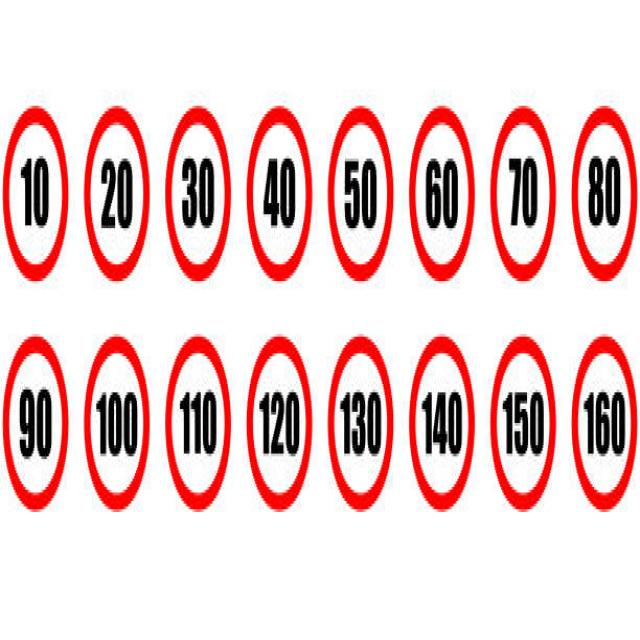speed_limit_100: (82, 325, 150, 515)
speed_limit_120: (244, 332, 312, 512)
speed_limit_20: (82, 97, 152, 287)
speed_limit_30: (163, 95, 233, 286)
speed_limit_50: (324, 95, 396, 294)
speed_limit_60: (407, 102, 478, 292)
speed_limit_70: (485, 102, 557, 296)
speed_limit_80: (570, 101, 640, 286)
